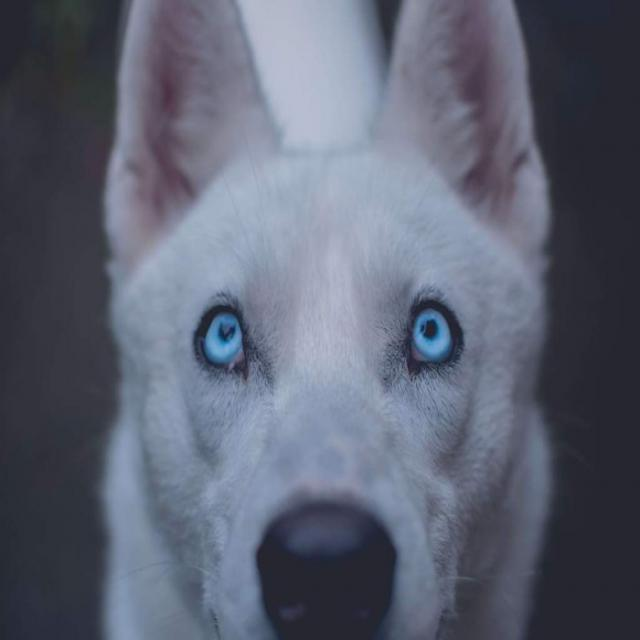eye: (404, 296, 466, 375), (196, 299, 255, 381)
